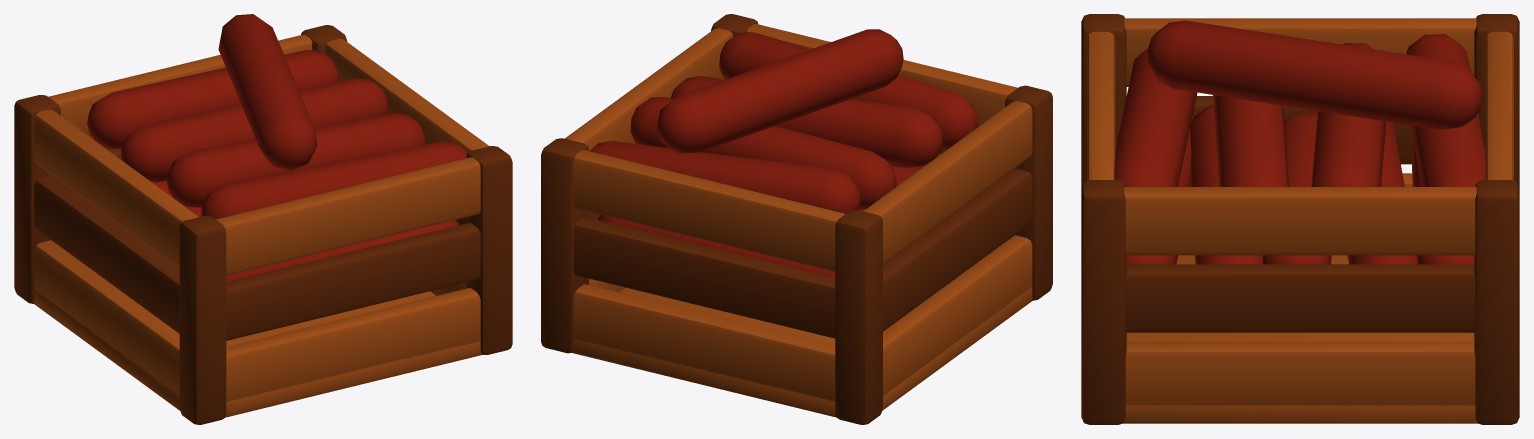
The model's file is IngredientCrate.fbx.
The picture shows the model from 3 angles, left to right: view 1: azimuth 30°, elevation 25°; view 2: azimuth 150°, elevation 25°; view 3: azimuth 270°, elevation 25°; orthographic projection. The views are drawn at different scales.
Parts seen in each view (by area): view 1: IngredientCrate; view 2: IngredientCrate; view 3: IngredientCrate.
Boxes of the visible parts, bbox=[...] form: IngredientCrate: bbox=[14, 14, 512, 424]; IngredientCrate: bbox=[541, 14, 1052, 424]; IngredientCrate: bbox=[1081, 14, 1519, 424].
Bounding box in the file's own units: 1.54 × 1.15 × 1.54.
